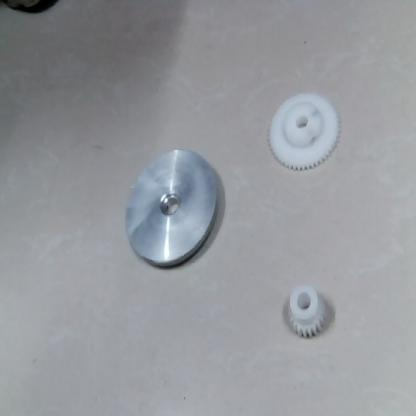FOD: (122, 145, 224, 274), (266, 89, 344, 174), (284, 287, 328, 338)
